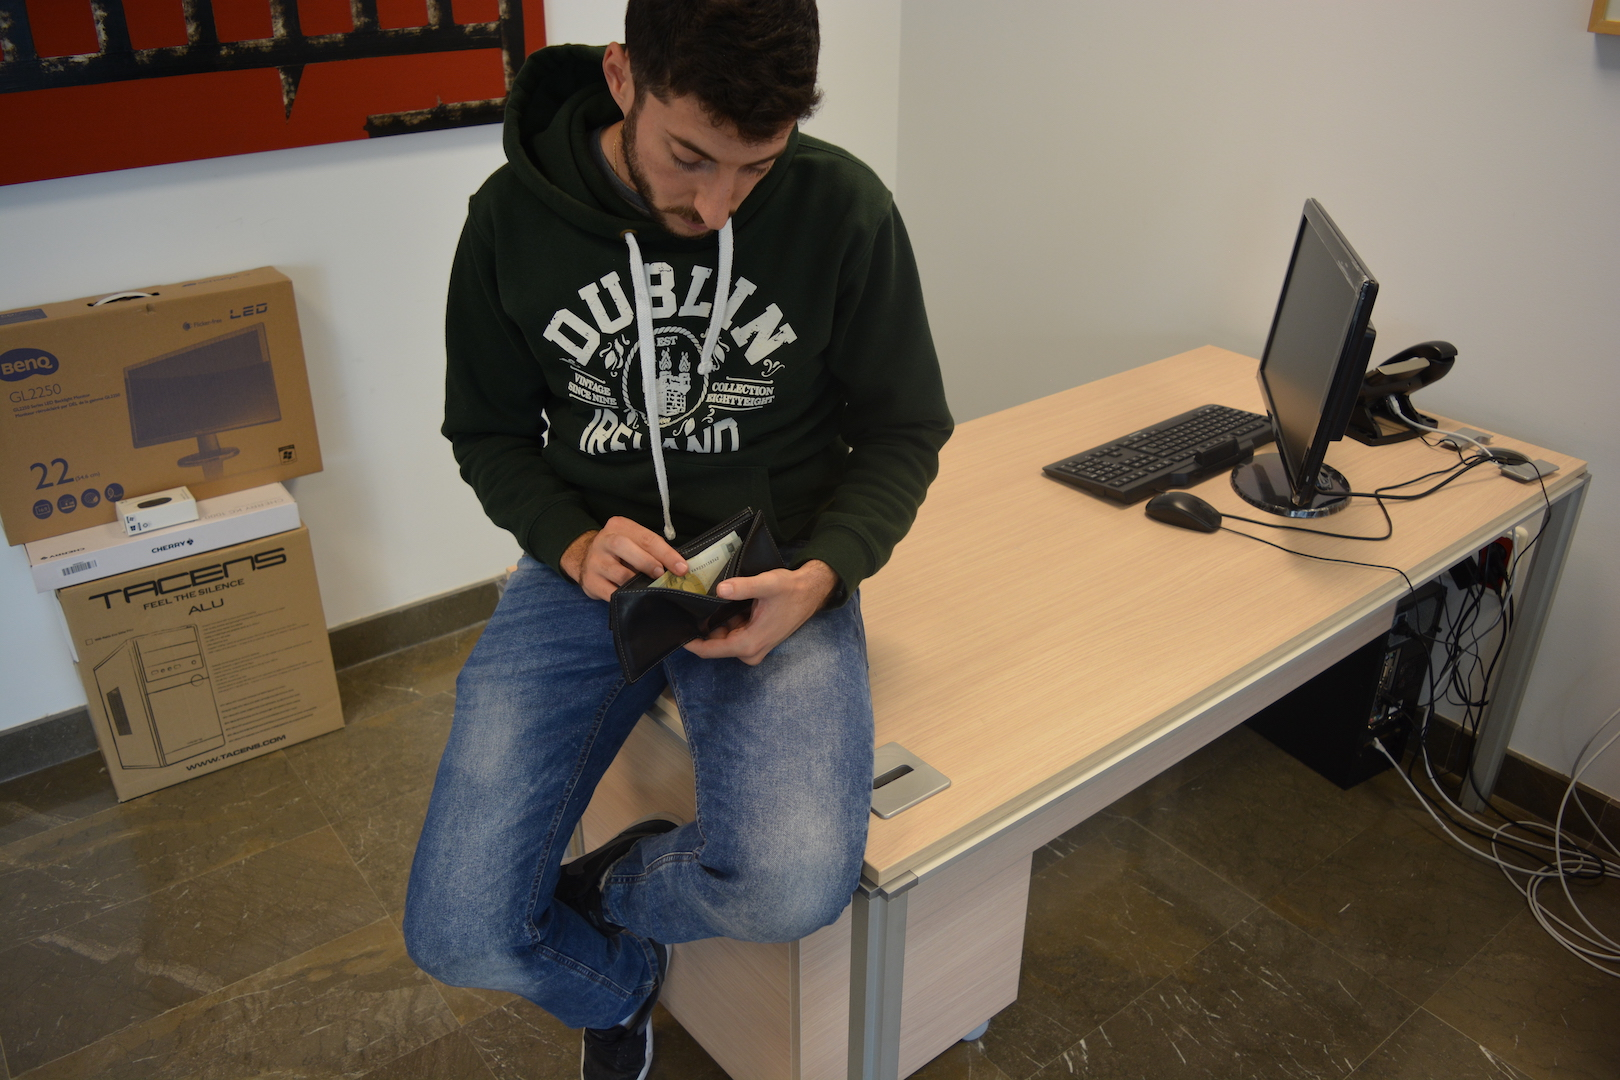monedero: (612, 507, 788, 683)
